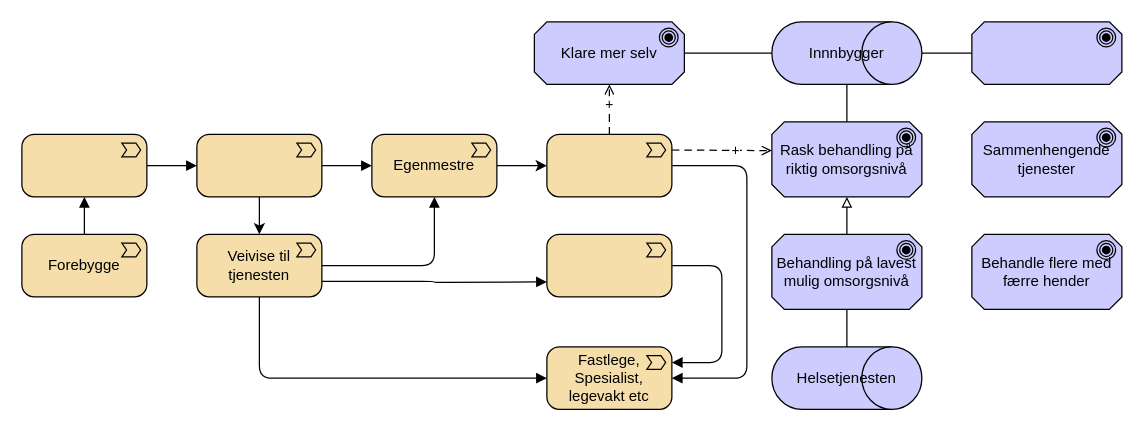
Image size: 1144x431. Some labels were removed from this diagram. The centre of each missing label's shape, as x and y in pixels:
"Henvise /medisinere" goes at pixel 609 265.
"Kartlegge" goes at pixel 259 165.
"Oppleve Symptomer" goes at pixel 84 165.
"Riktig behandling av god kvalitet" goes at pixel 1046 52.
"Veiledet selvhjelp" goes at pixel 609 165.
